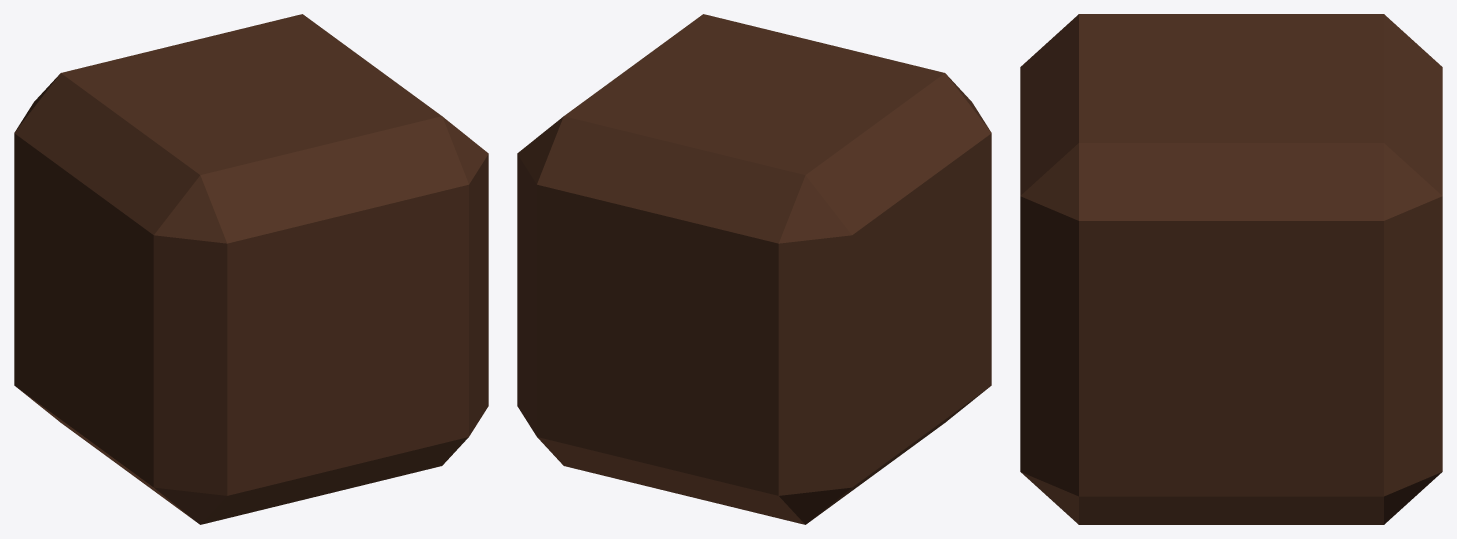
File: particle_bevel.fbx
3 views of the same model, side by side, from view 1: azimuth 30°, elevation 25°; view 2: azimuth 150°, elevation 25°; view 3: azimuth 270°, elevation 25° (orthographic). The views are drawn at different scales.
Visible parts, largest first — view 1: Cylinder; view 2: Cylinder; view 3: Cylinder.
Boxes of the visible parts, x1=… form: Cylinder: x1=14, y1=14, x2=488, y2=524; Cylinder: x1=517, y1=14, x2=991, y2=524; Cylinder: x1=1020, y1=14, x2=1442, y2=524.
Size of the model in its own units: 139 by 138 by 139.
